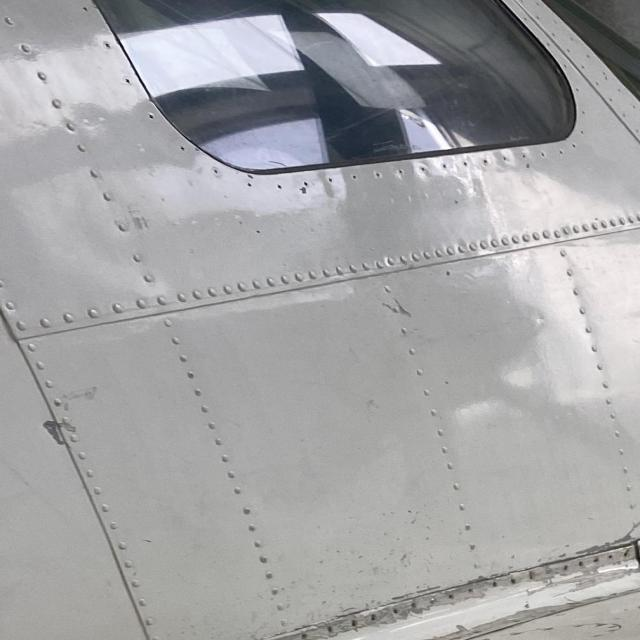Crack: (472, 555, 564, 585)
Paint-off: (376, 295, 414, 321), (568, 538, 625, 555), (37, 416, 67, 445), (612, 515, 640, 545), (440, 267, 456, 279), (297, 185, 312, 196), (247, 172, 258, 180)
Scratch: (231, 539, 640, 640), (409, 586, 640, 640)
